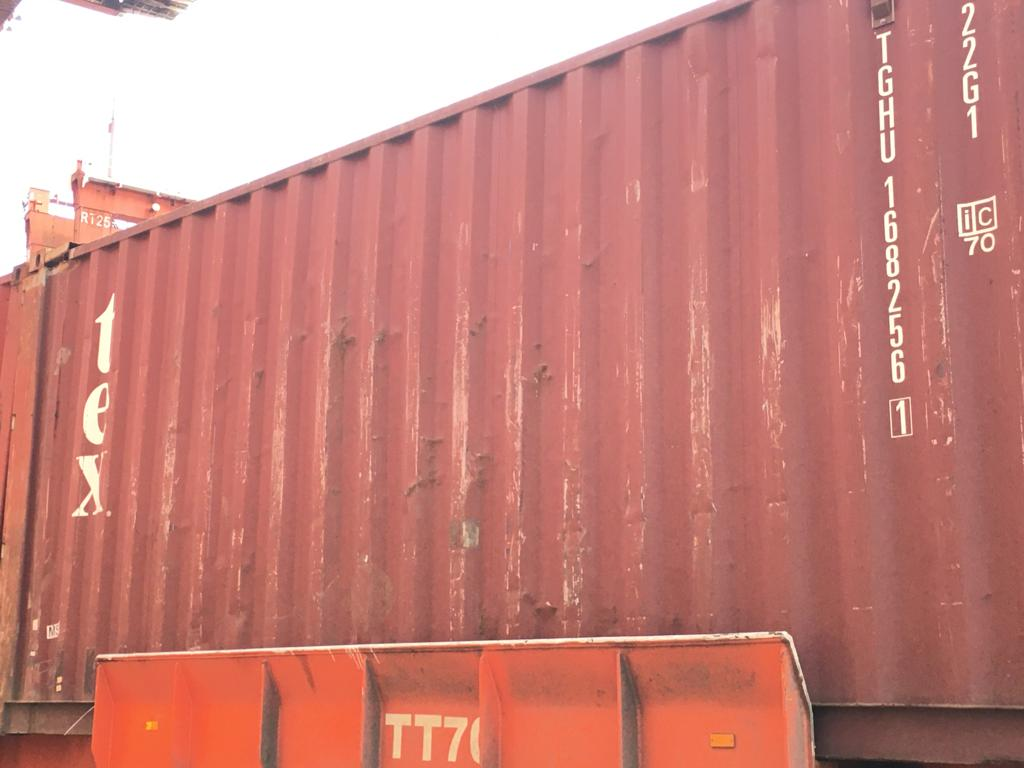dented: (398, 436, 510, 516), (473, 328, 575, 403), (268, 309, 414, 361), (486, 569, 598, 628)
